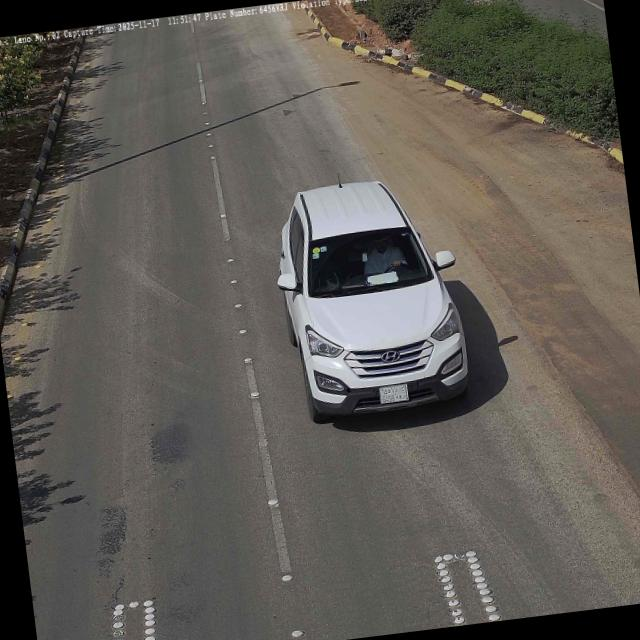person_without_seatbelt: (364, 228, 409, 282)
